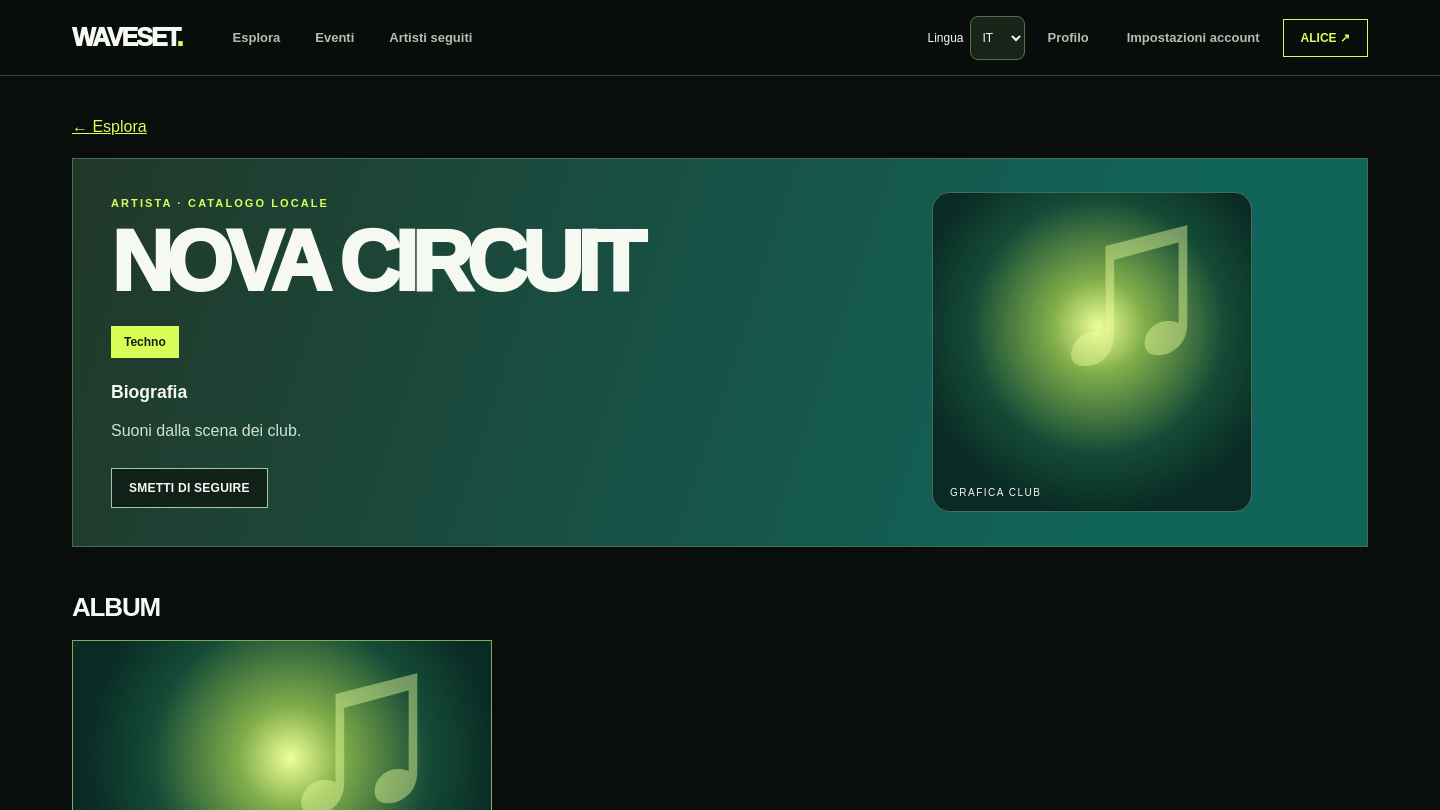
unfollow fallito conserva lo stato seguito
Step 1. Click the button "Smetti di seguire" → (189, 488), box [111,468,268,508]
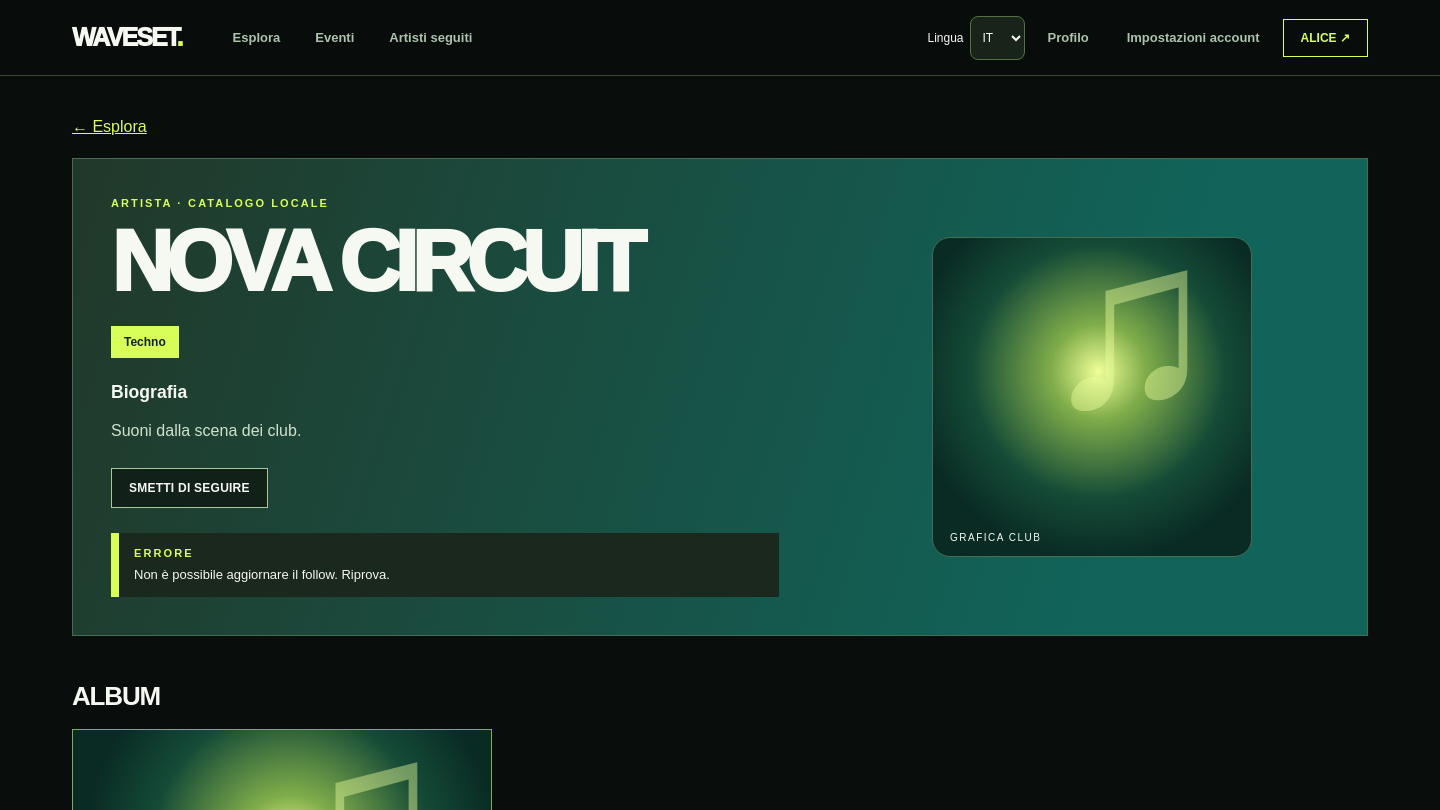
Check: the message "Errore Non è possibile aggiornare il follow. Riprova." is shown, box [111,533,779,597]
